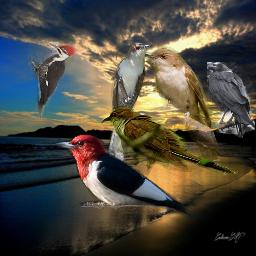Crow: (207, 62, 255, 138)
Cuckoo: (101, 105, 238, 176), (139, 46, 220, 163), (107, 41, 154, 166)
Woodpecker: (48, 132, 198, 222), (28, 42, 76, 121)
